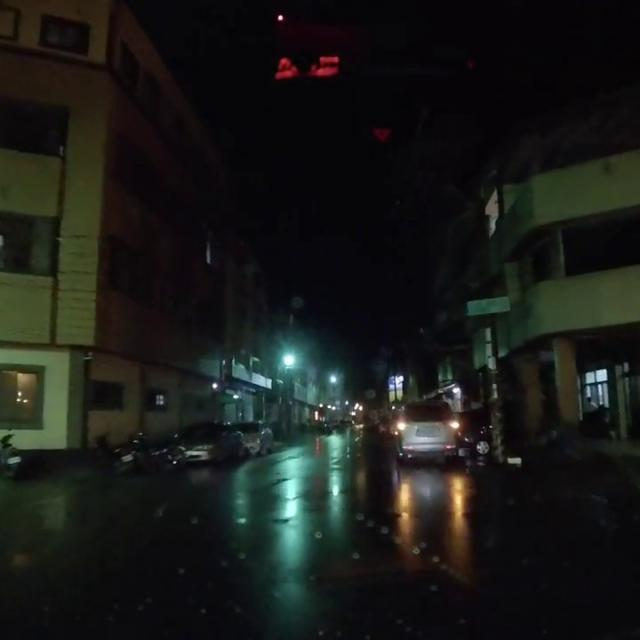Car: (392, 396, 463, 463), (174, 416, 244, 469), (232, 414, 276, 459)
